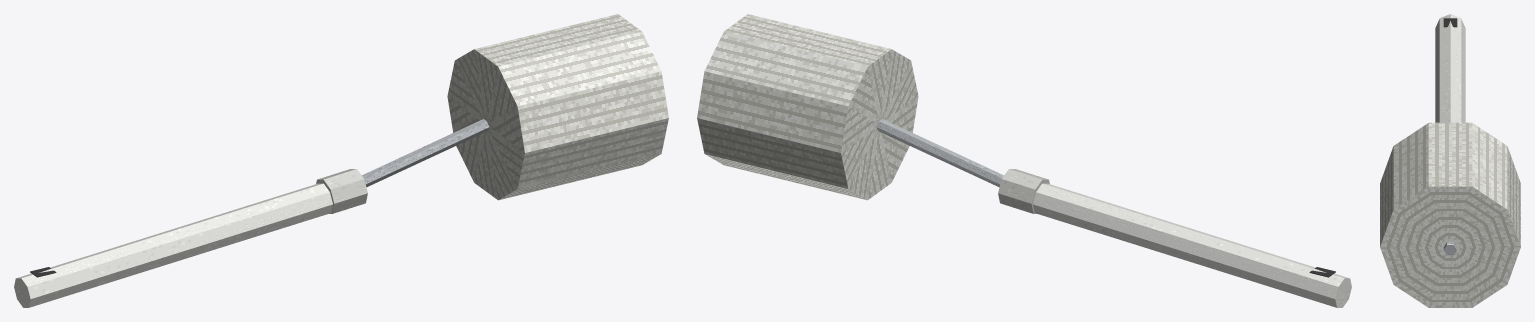
Rendered from brush_toilet.glb.
The picture shows the model from 3 angles, left to right: view 1: azimuth 30°, elevation 25°; view 2: azimuth 150°, elevation 25°; view 3: azimuth 270°, elevation 25°; orthographic projection. The views are drawn at different scales.
Parts seen in each view (by area): view 1: block_head, block_handle, block_stem, block_collar; view 2: block_head, block_handle, block_stem, block_collar; view 3: block_head, block_handle, block_tip, block_hole.
Boxes of the visible parts, x1,y1,x2,y2 form: block_head: (447, 14, 668, 200); block_handle: (14, 183, 332, 307); block_stem: (362, 119, 489, 187); block_collar: (316, 169, 367, 213); block_head: (697, 14, 918, 200); block_handle: (1033, 183, 1351, 307); block_stem: (876, 119, 1003, 187); block_collar: (998, 169, 1049, 213); block_head: (1380, 122, 1520, 307); block_handle: (1435, 14, 1465, 122); block_tip: (1443, 242, 1457, 255); block_hole: (1443, 18, 1457, 27).
Size of the model in its own units: 0.3846 by 0.0819 by 0.084.
Materials: 2 (2 with a texture image).
